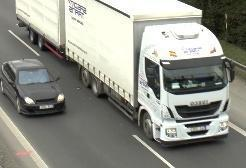car: (1, 59, 66, 116)
truck: (15, 1, 230, 146)
